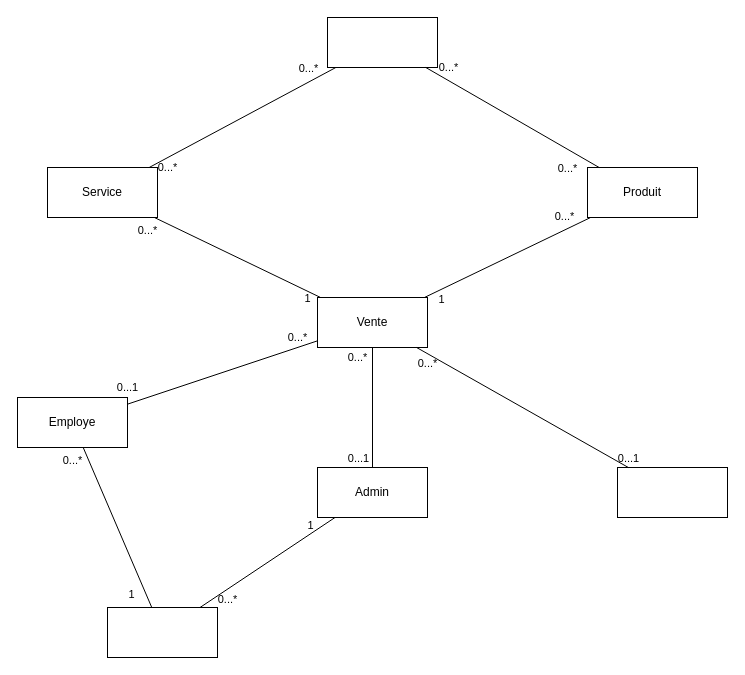
Some shapes in this 745 by 675 pixel diagram are drawn without their labels. The shapes that lost their labels are listed below. From the top down, each one's box as (x1, y1, x2, y2) in pixels, then its label:
(326, 16, 438, 68): Categorie
(616, 466, 728, 518): Client
(106, 606, 218, 658): Entreprise
